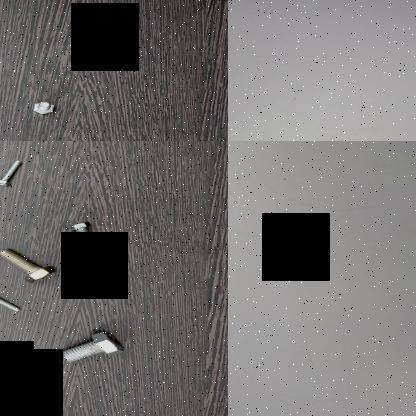Bolts: (58, 326, 130, 366), (0, 243, 59, 285), (58, 217, 102, 249), (0, 158, 28, 186), (0, 285, 26, 313), (31, 98, 59, 116)
